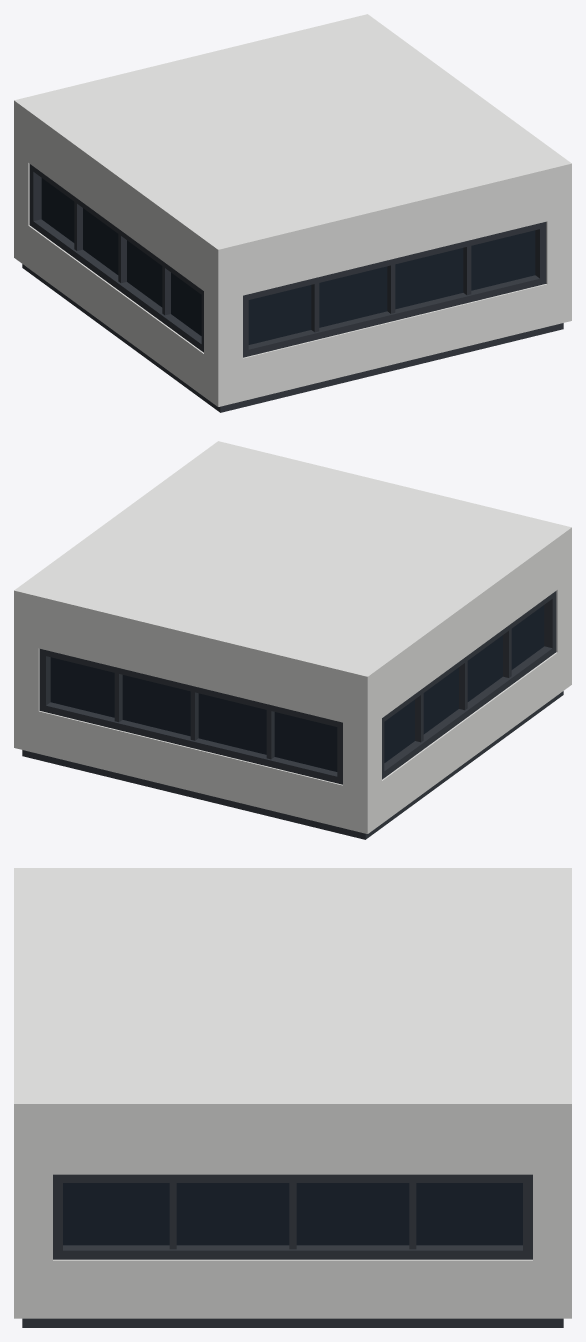
Rendered from floor_c.glb.
3 renders of one model, top to bottom at view 1: azimuth 30°, elevation 25°; view 2: azimuth 150°, elevation 25°; view 3: azimuth 270°, elevation 25°, orthographic. The views are drawn at different scales.
Visible parts, largest first — view 1: floor_c; view 2: floor_c; view 3: floor_c.
Part boxes in pixels (box(x1,y1,x2,y2)): floor_c: box(14, 14, 571, 412); floor_c: box(14, 441, 571, 839); floor_c: box(14, 868, 571, 1327).
Bounding box in the file's own units: 1 × 0.45 × 1.
